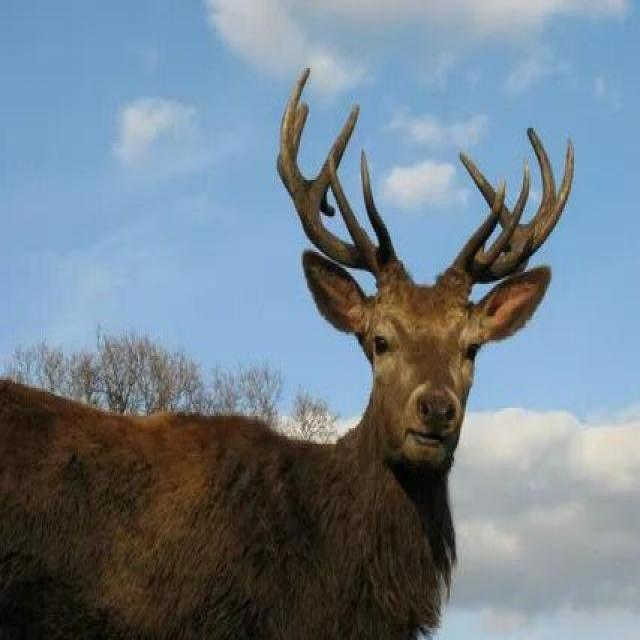deer: (254, 137, 559, 596)
